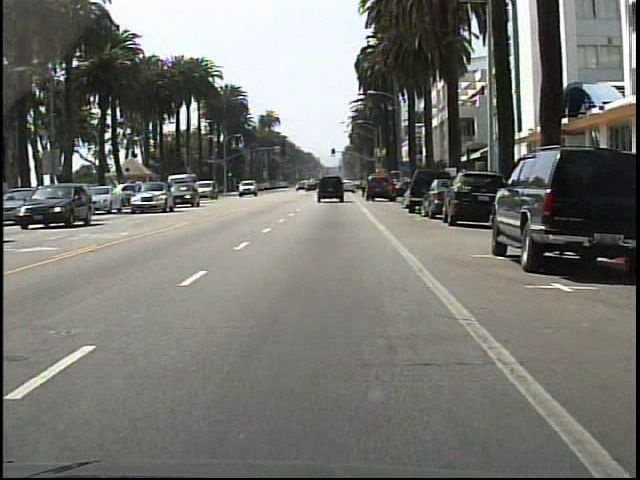person: (357, 175, 368, 201)
